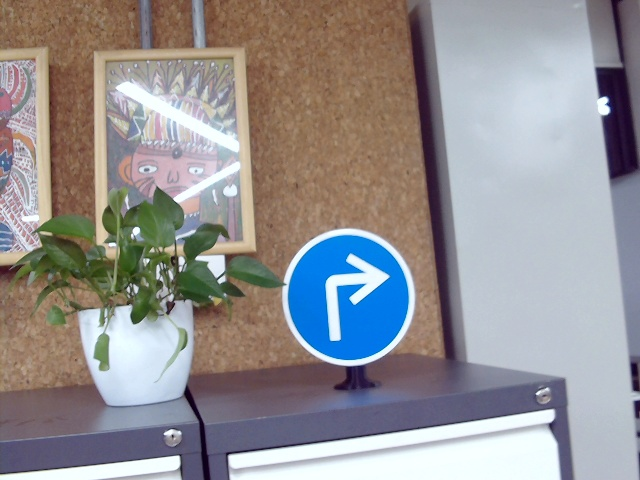turn_right: (322, 247, 386, 340)
